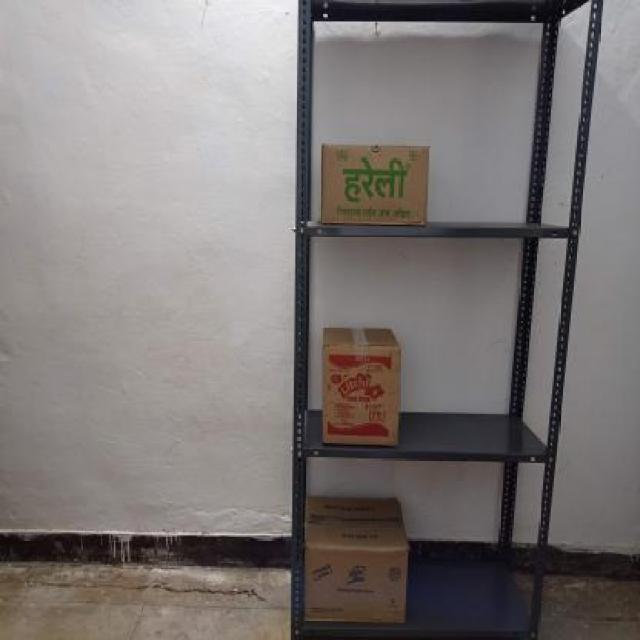box: (321, 142, 427, 226), (305, 544, 407, 624), (321, 342, 399, 446)
